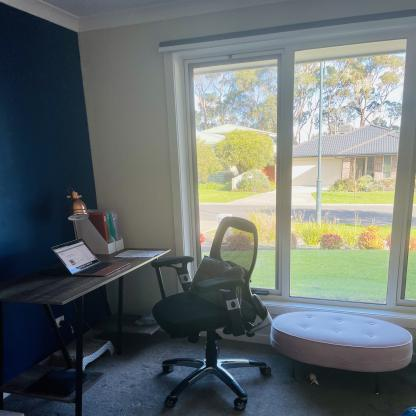chair: (144, 212, 271, 416), (266, 313, 414, 395)
table: (0, 244, 172, 416)
